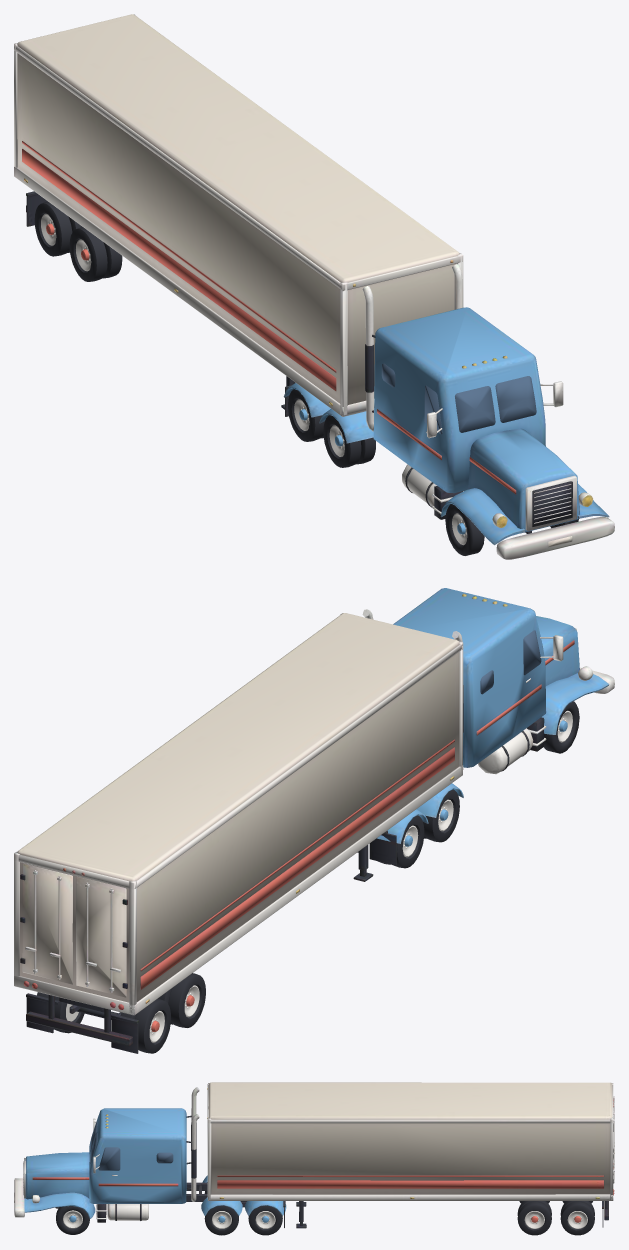
The model's file is semi-truck-low.glb.
3 views of the same model, one above another, from view 1: azimuth 30°, elevation 25°; view 2: azimuth 150°, elevation 25°; view 3: azimuth 270°, elevation 25° (orthographic). The views are drawn at different scales.
Visible parts, largest first — view 1: semi-truck_trailer, semi-truck_body, semi-truck_wheel_t1l, semi-truck_windows; view 2: semi-truck_trailer, semi-truck_body, semi-truck_wheel_t1l, semi-truck_windows; view 3: semi-truck_trailer, semi-truck_body, semi-truck_wheel_t1l, semi-truck_windows.
Part boxes in pixels (box(x1,y1,x2,y2)): semi-truck_trailer: box(14, 14, 463, 416); semi-truck_body: box(283, 264, 614, 559); semi-truck_wheel_t1l: box(34, 201, 578, 555); semi-truck_windows: box(381, 363, 536, 434); semi-truck_trailer: box(14, 613, 463, 1053); semi-truck_body: box(362, 588, 614, 865); semi-truck_wheel_t1l: box(37, 701, 579, 1053); semi-truck_windows: box(480, 630, 541, 694); semi-truck_trailer: box(207, 1082, 614, 1228); semi-truck_body: box(14, 1087, 286, 1227); semi-truck_wheel_t1l: box(56, 1182, 594, 1235); semi-truck_windows: box(90, 1121, 173, 1170).
Bounding box in the file's own units: 2.9 × 4 × 18.15.
Materials: 7 (2 with a texture image).
